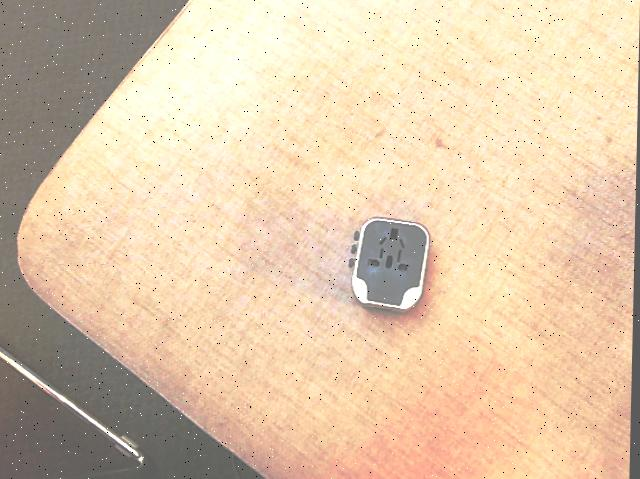adapter: (348, 217, 431, 312)
